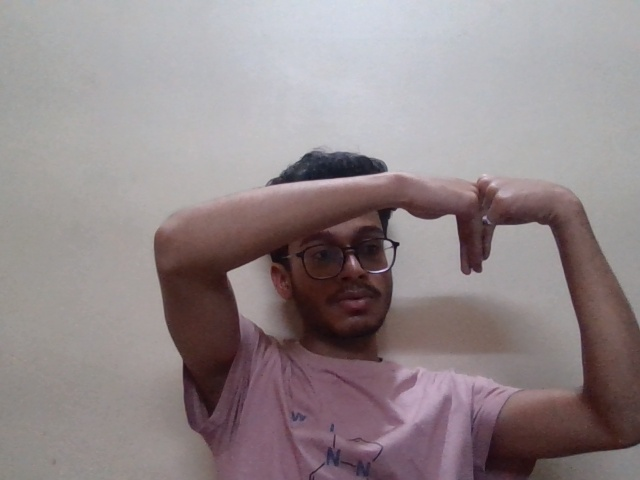yesterday: (388, 155, 565, 294)
